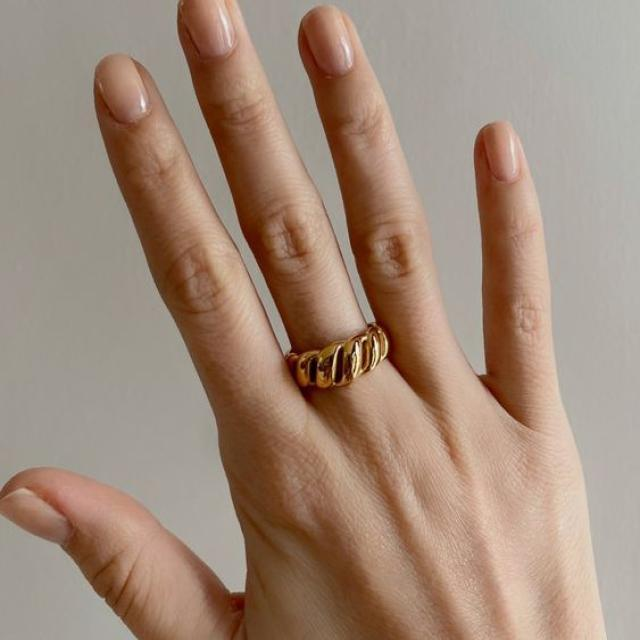Fingernail: (302, 6, 354, 77), (96, 59, 150, 125), (483, 125, 520, 182)
